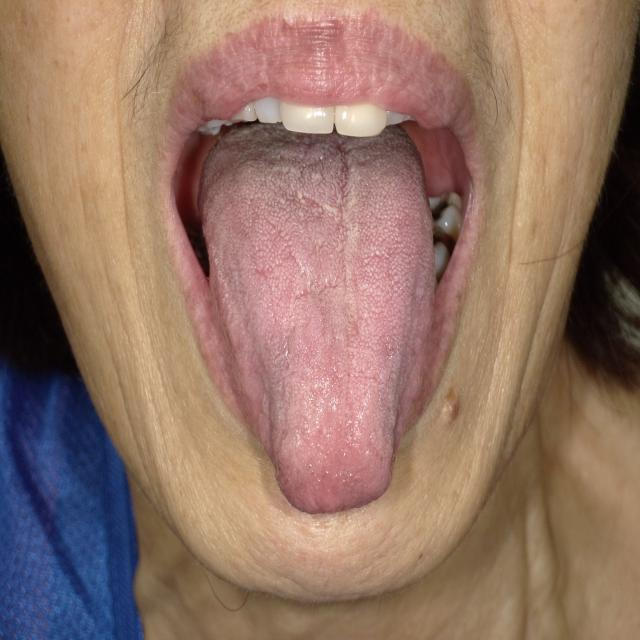baitaishe: (198, 125, 434, 513)
gandanao: (204, 197, 280, 470), (388, 208, 433, 452)
liewenshe: (329, 142, 353, 226)
